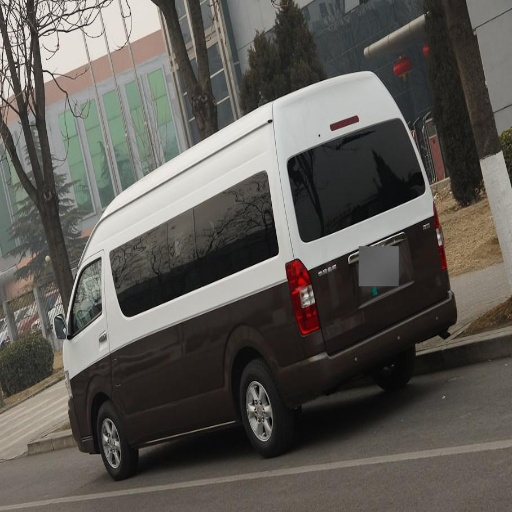back_bumper: (279, 275, 453, 412)
back_left_light: (286, 260, 318, 334)
trunk: (306, 204, 431, 345)
